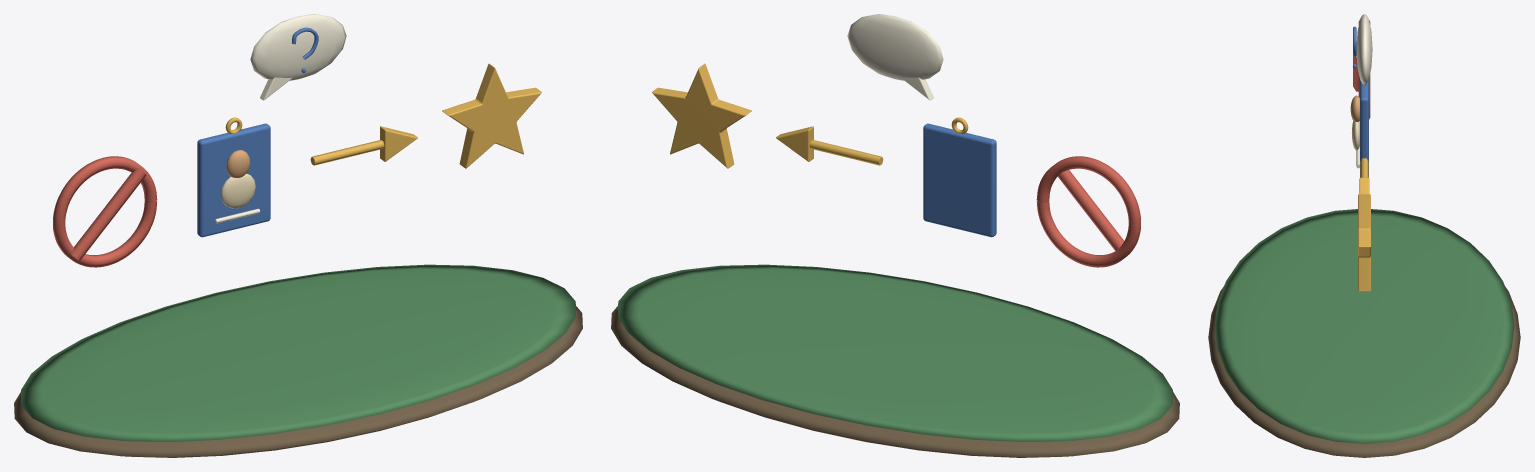
The model's file is complete-first-baffling-name.glb.
The picture shows the model from 3 angles, left to right: view 1: azimuth 30°, elevation 25°; view 2: azimuth 150°, elevation 25°; view 3: azimuth 270°, elevation 25°; orthographic projection. The views are drawn at different scales.
Parts seen in each view (by area): view 1: complete-first-baffling-name_surface_01, complete-first-baffling-name_surface_00, complete-first-baffling-name_surface_07, complete-first-baffling-name_surface_03, complete-first-baffling-name_surface_02, complete-first-baffling-name_surface_06, complete-first-baffling-name_surface_05; view 2: complete-first-baffling-name_surface_01, complete-first-baffling-name_surface_00, complete-first-baffling-name_surface_03, complete-first-baffling-name_surface_07, complete-first-baffling-name_surface_02, complete-first-baffling-name_surface_06; view 3: complete-first-baffling-name_surface_01, complete-first-baffling-name_surface_00, complete-first-baffling-name_surface_07, complete-first-baffling-name_surface_06, complete-first-baffling-name_surface_03.
Part boxes in pixels (x1=…): complete-first-baffling-name_surface_01: x1=21, y1=264, x2=575, y2=441; complete-first-baffling-name_surface_00: x1=14, y1=306, x2=582, y2=457; complete-first-baffling-name_surface_07: x1=225, y1=63, x2=541, y2=168; complete-first-baffling-name_surface_03: x1=197, y1=27, x2=318, y2=237; complete-first-baffling-name_surface_02: x1=53, y1=156, x2=157, y2=267; complete-first-baffling-name_surface_06: x1=214, y1=14, x2=346, y2=223; complete-first-baffling-name_surface_05: x1=221, y1=173, x2=255, y2=208; complete-first-baffling-name_surface_01: x1=618, y1=264, x2=1172, y2=441; complete-first-baffling-name_surface_00: x1=611, y1=306, x2=1179, y2=457; complete-first-baffling-name_surface_03: x1=923, y1=123, x2=996, y2=237; complete-first-baffling-name_surface_07: x1=652, y1=63, x2=968, y2=168; complete-first-baffling-name_surface_02: x1=1036, y1=156, x2=1140, y2=267; complete-first-baffling-name_surface_06: x1=847, y1=14, x2=943, y2=100; complete-first-baffling-name_surface_01: x1=1214, y1=209, x2=1514, y2=443; complete-first-baffling-name_surface_00: x1=1208, y1=286, x2=1520, y2=457; complete-first-baffling-name_surface_07: x1=1358, y1=83, x2=1370, y2=291; complete-first-baffling-name_surface_06: x1=1356, y1=14, x2=1372, y2=168; complete-first-baffling-name_surface_03: x1=1353, y1=26, x2=1368, y2=177.
Bounding box in the file's own units: 4.56 × 2.93 × 2.5.
